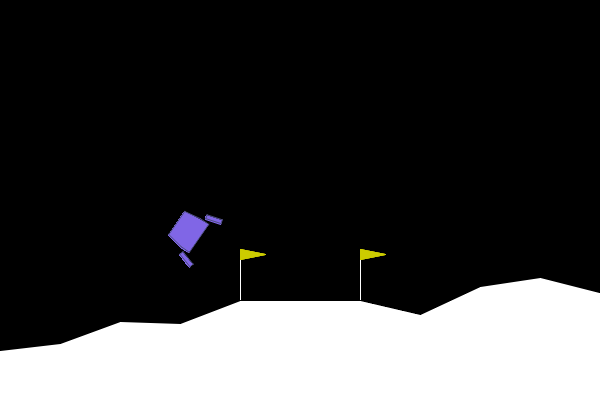lander: (158, 198, 224, 270)
